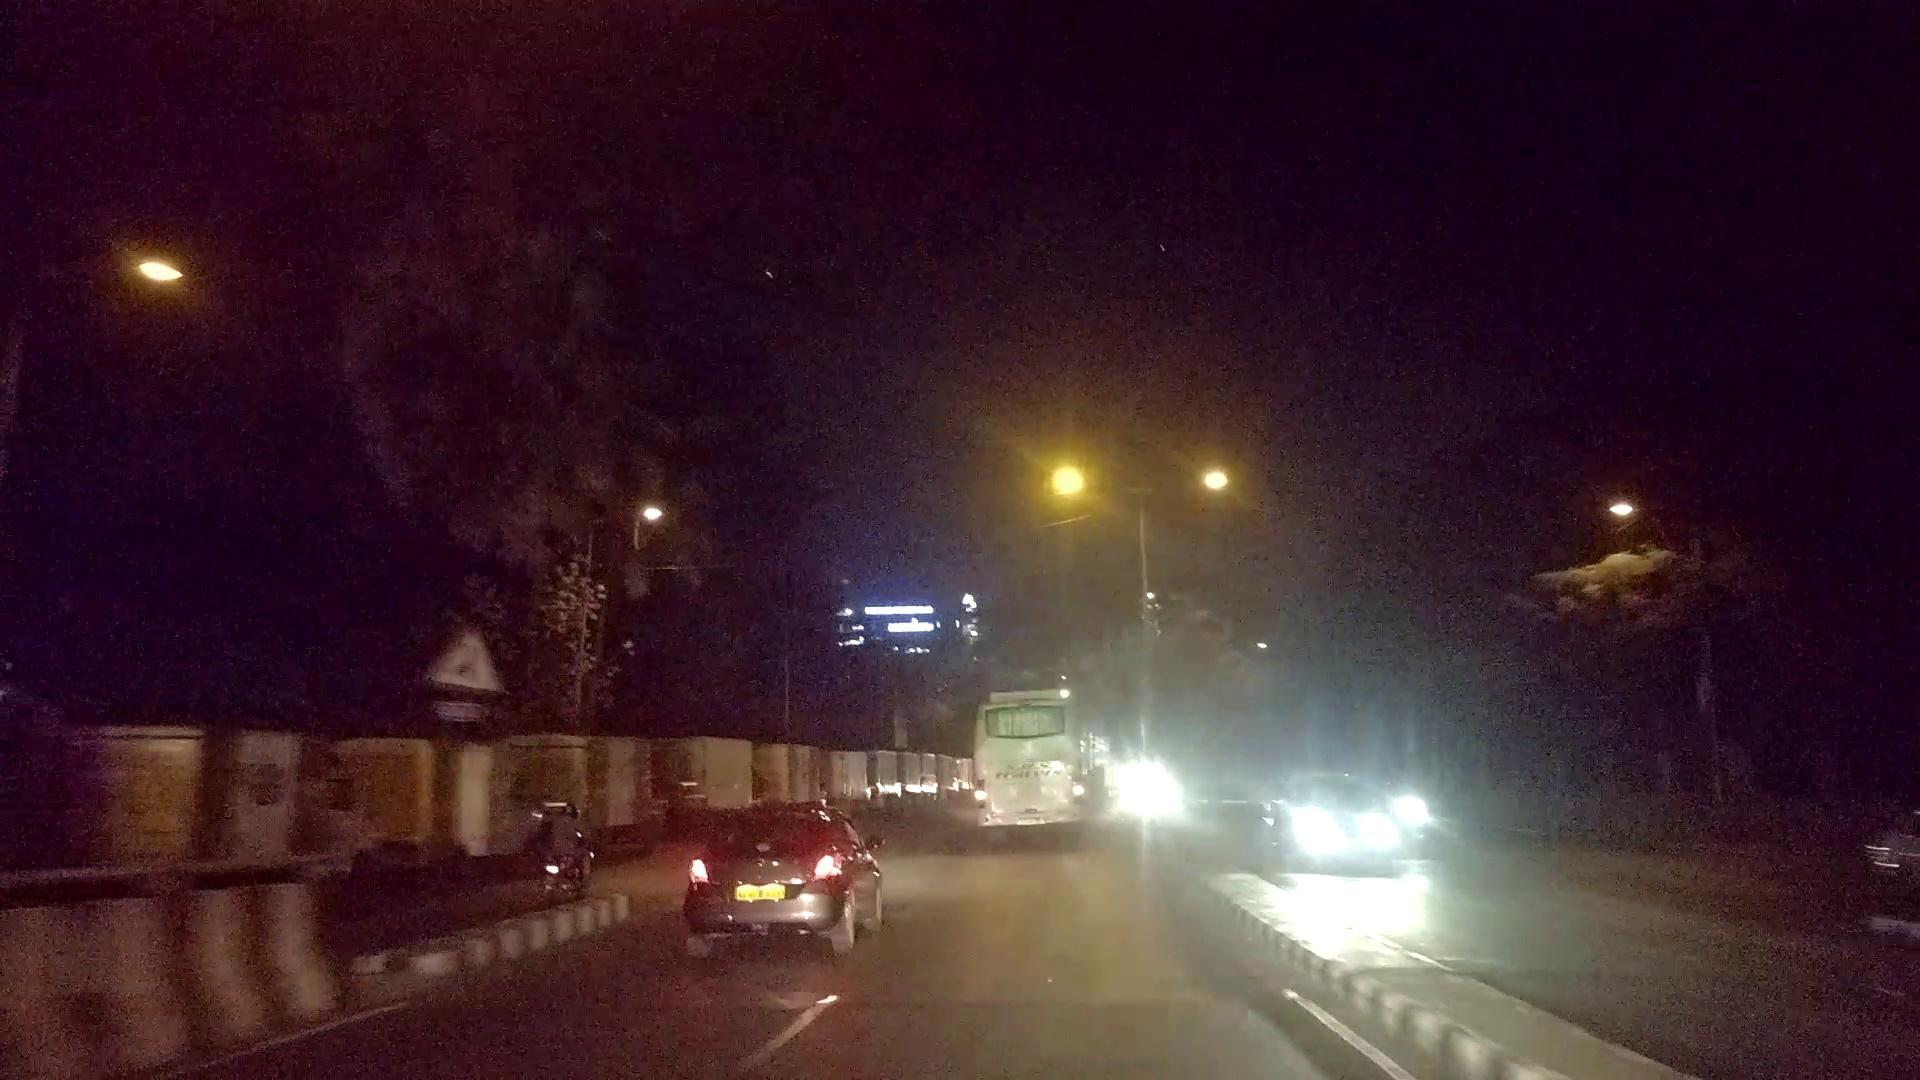on: (1040, 363, 1238, 579)
